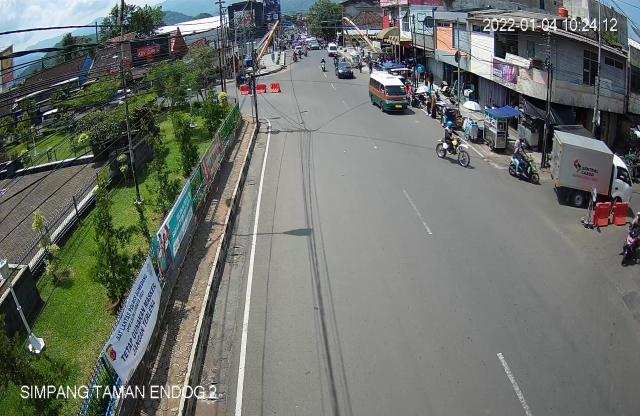Mobil: (367, 69, 411, 119)
Motor: (430, 118, 474, 173), (506, 137, 546, 190), (618, 212, 640, 269)
Truk: (545, 125, 637, 215)
